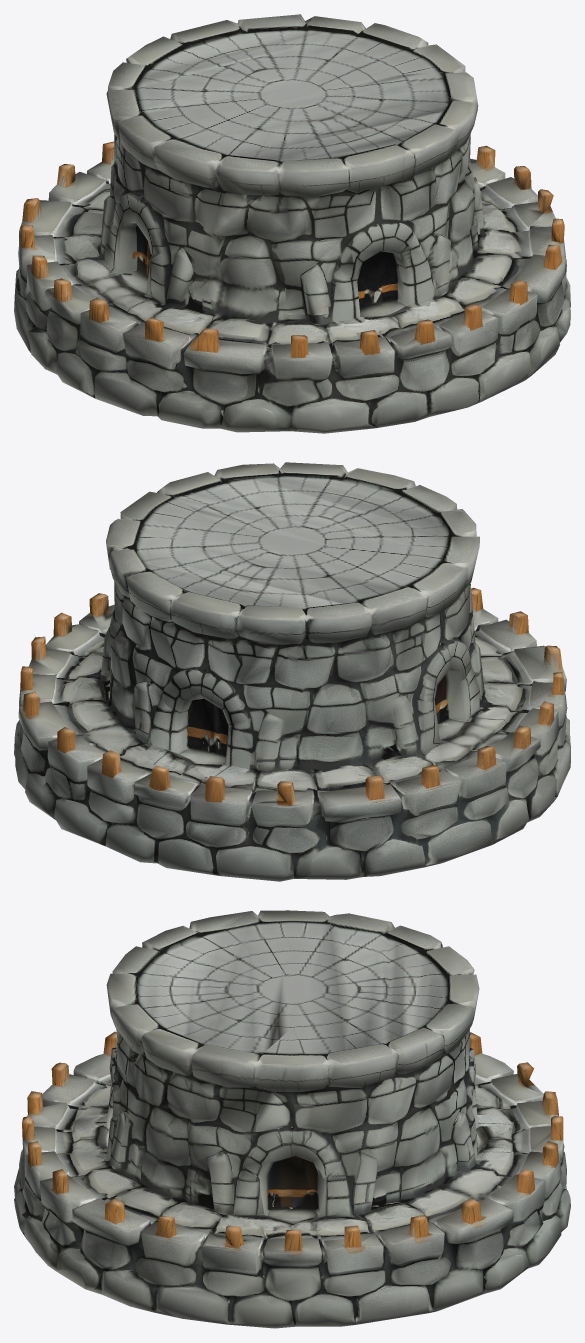
Rendered from tier1_base.glb.
3 views of the same model, one above another, from view 1: azimuth 30°, elevation 25°; view 2: azimuth 150°, elevation 25°; view 3: azimuth 270°, elevation 25° (orthographic).
Bounding box in the file's own units: 1.91 × 0.849 × 1.91.
1 material, 1 textured.
